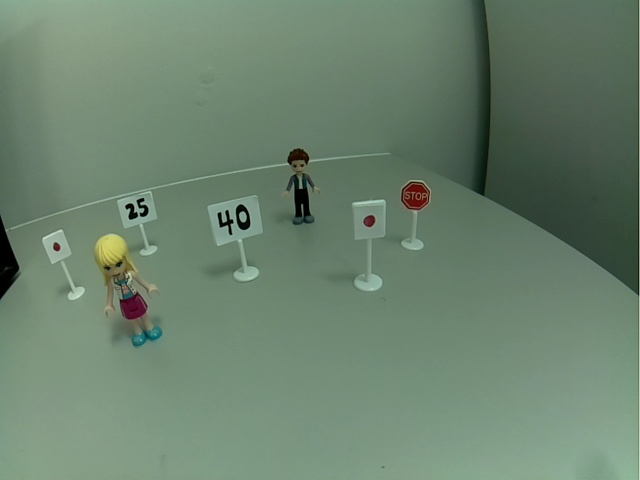people: (91, 233, 165, 348), (282, 147, 324, 228)
red light: (351, 199, 388, 241), (39, 228, 74, 265)
speed 25: (115, 190, 159, 230)
speed 40: (205, 193, 265, 247)
stop: (399, 177, 433, 214)
